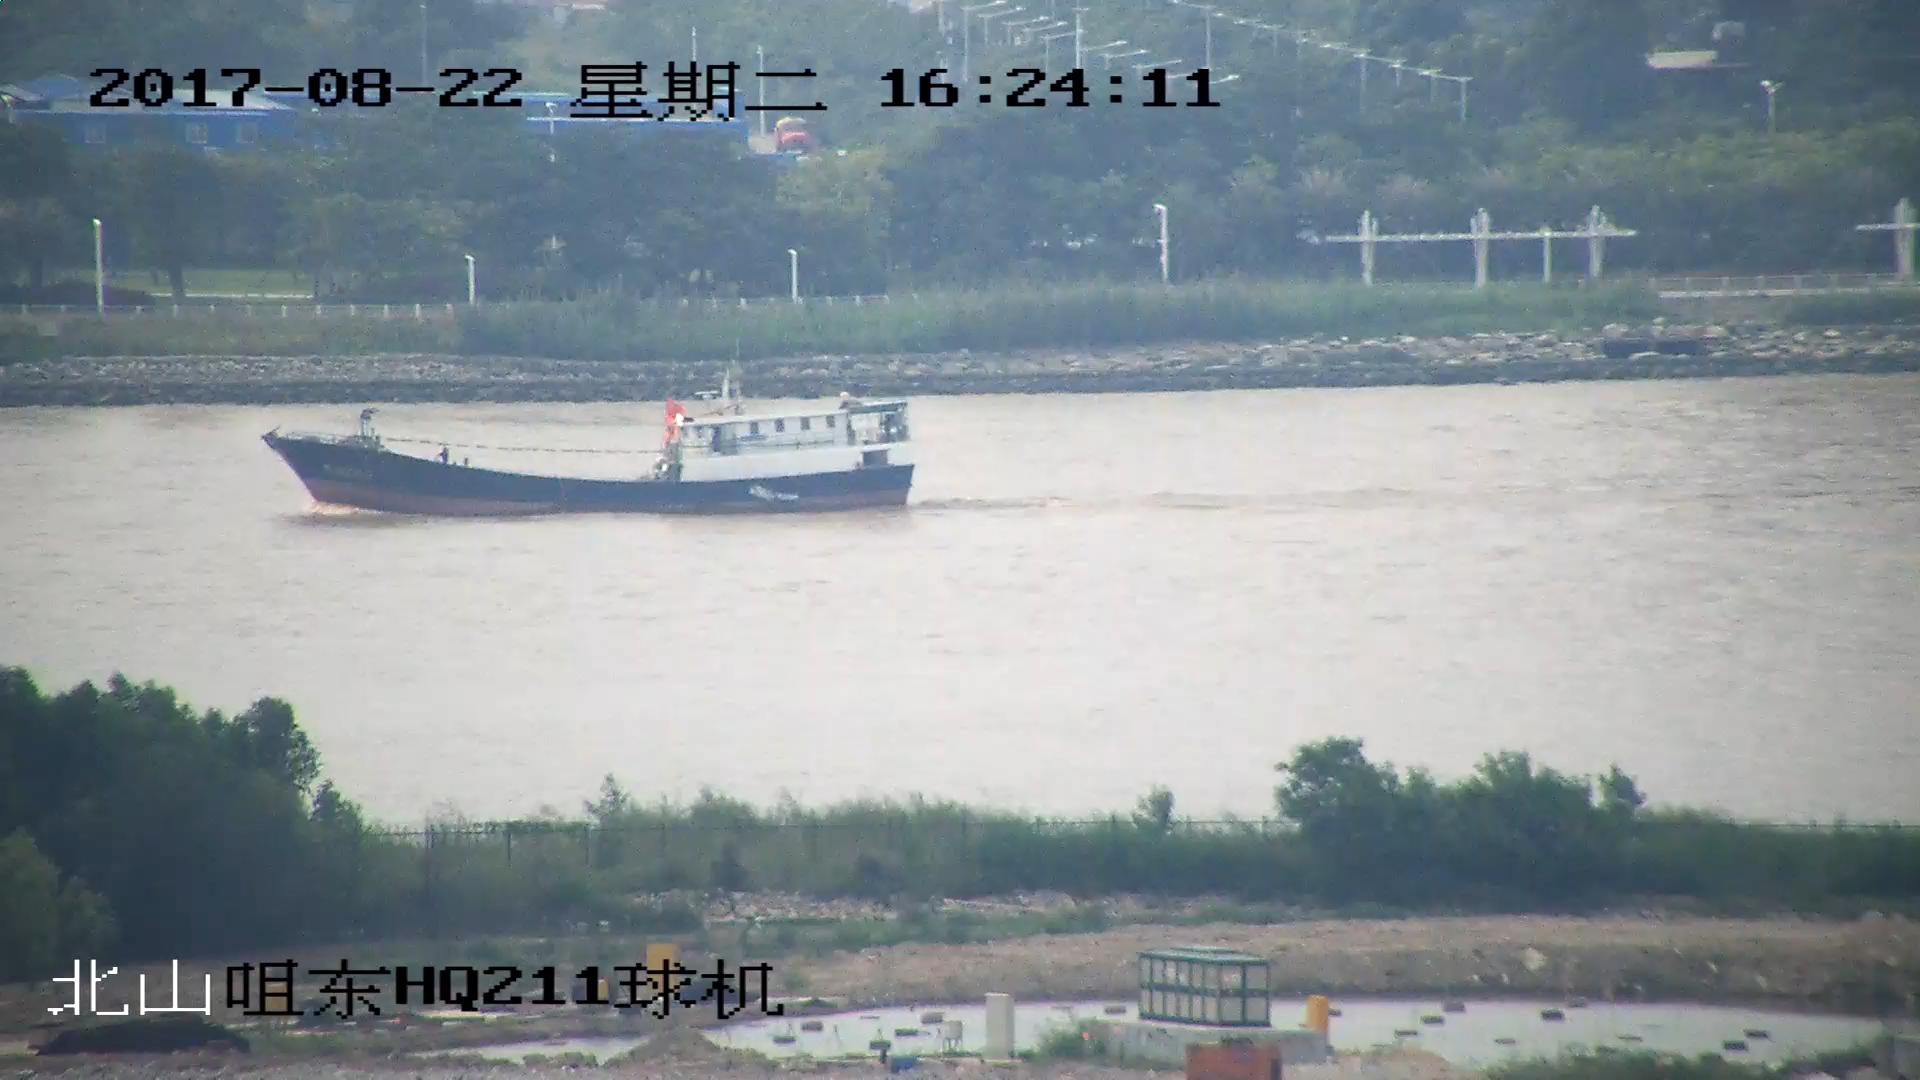fishing boat: (266, 353, 916, 524)
